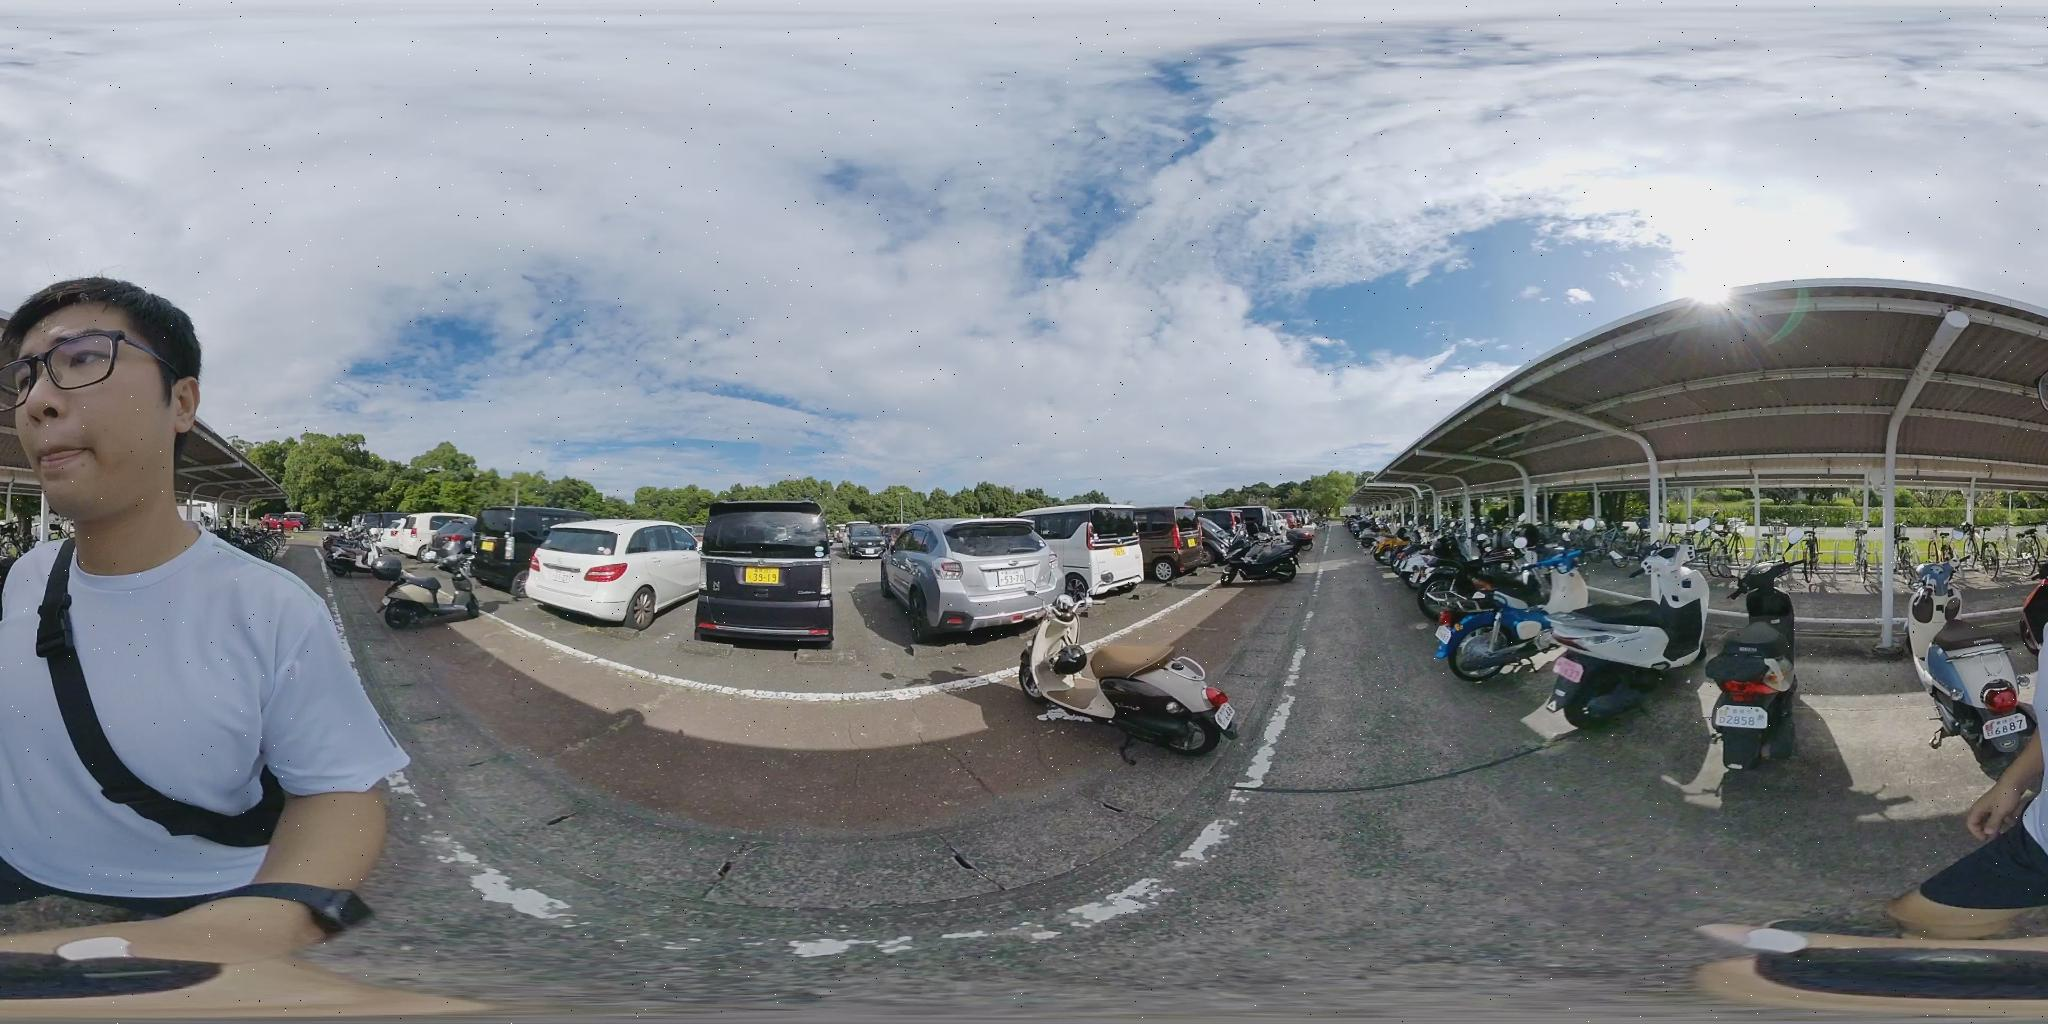car: (876, 519, 1064, 644), (692, 499, 836, 650), (524, 521, 716, 633), (842, 526, 889, 556)
